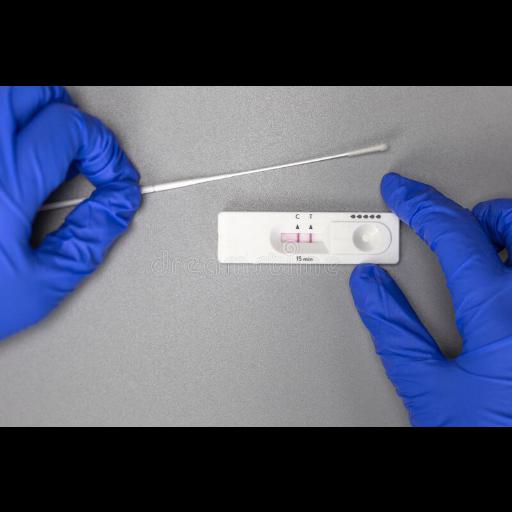Pos: (219, 210, 399, 260)
